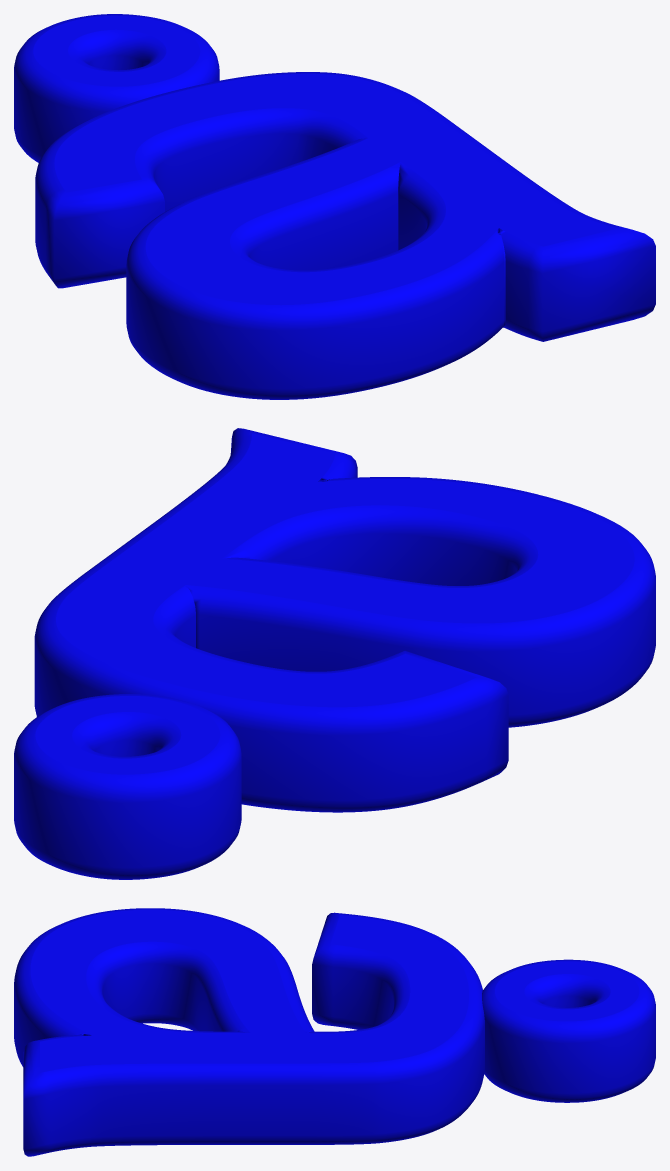
3 renders of one model, top to bottom at view 1: azimuth 30°, elevation 25°; view 2: azimuth 150°, elevation 25°; view 3: azimuth 270°, elevation 25°, orthographic. The views are drawn at different scales.
Visible parts, largest first — view 1: 229; view 2: 229; view 3: 229.
Boxes of the visible parts, x1,y1,x2,y2 form: 229: (14,14,655,399); 229: (14,428,655,879); 229: (14,908,655,1156).
Bounding box in the file's own units: 0.7816 × 0.16 × 1.17.
